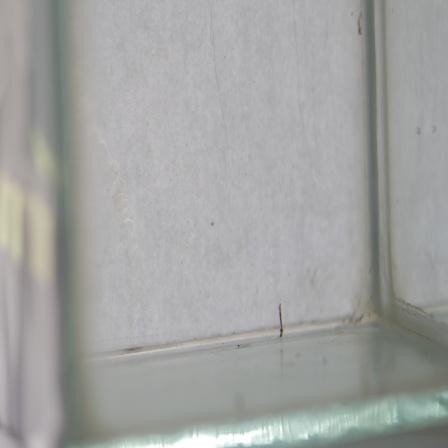Jentik-Nyamuk: (274, 298, 287, 345)
